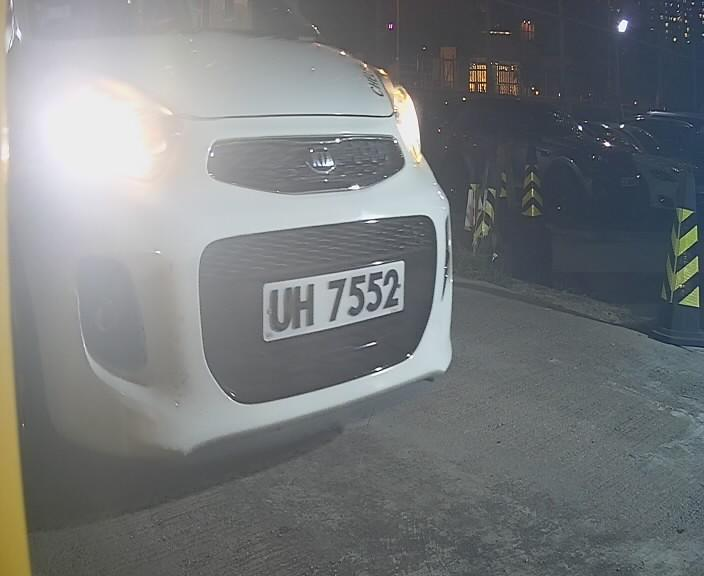privatecar: (13, 6, 466, 469)
